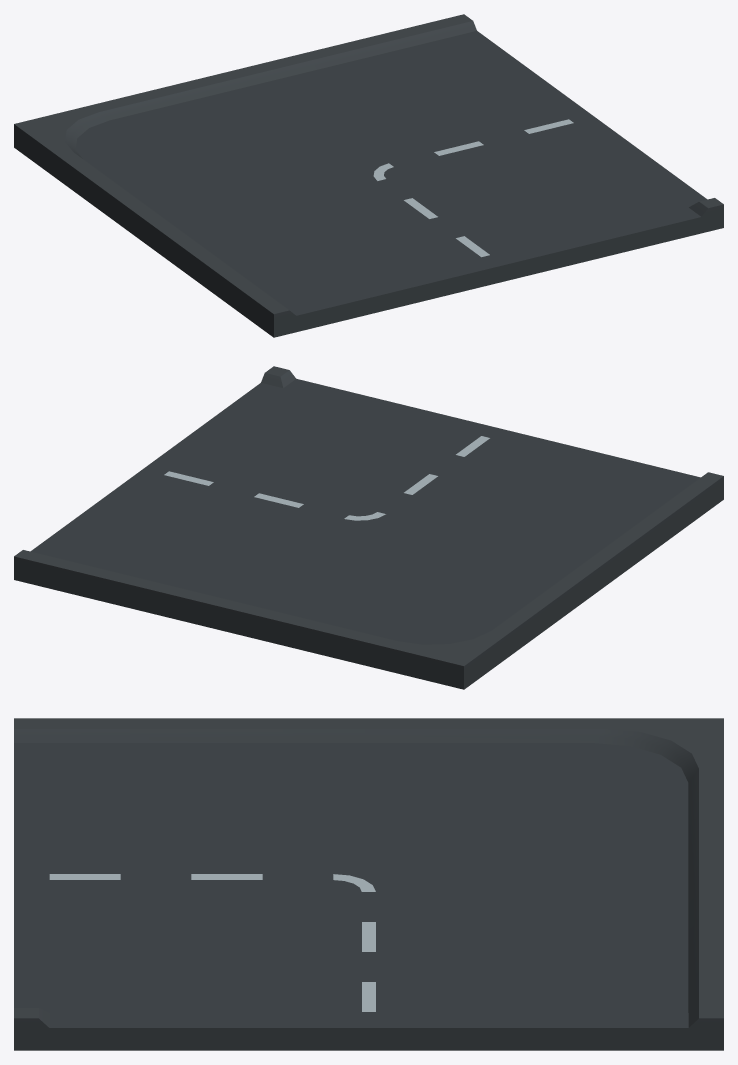
The model's file is road_corner.obj.
3 renders of one model, top to bottom at view 1: azimuth 30°, elevation 25°; view 2: azimuth 150°, elevation 25°; view 3: azimuth 270°, elevation 25°, orthographic. The views are drawn at different scales.
Parts seen in each view (by area): view 1: road_corner_Cube.948; view 2: road_corner_Cube.948; view 3: road_corner_Cube.948.
Boxes of the visible parts, x1,y1,x2,y2 form: road_corner_Cube.948: (14,14,723,337); road_corner_Cube.948: (14,366,723,689); road_corner_Cube.948: (14,718,723,1050).
Size of the model in its own units: 2 by 0.1 by 2.
